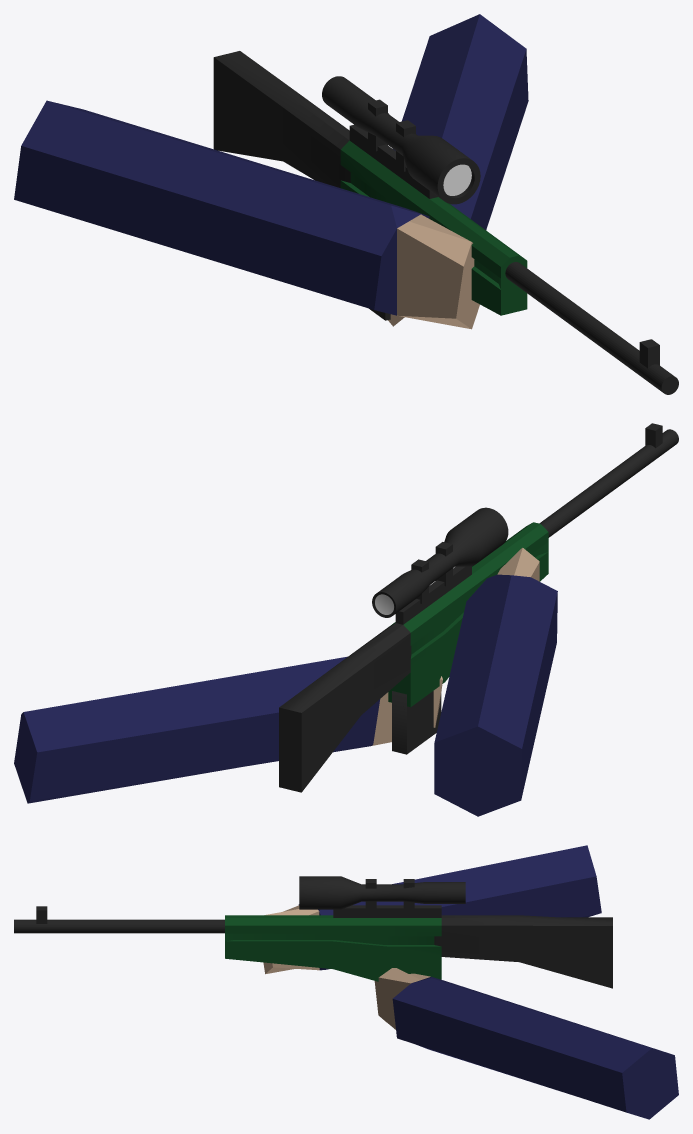
The model's file is 携带AWP.fbx.
3 views of the same model, one above another, from view 1: azimuth 30°, elevation 25°; view 2: azimuth 150°, elevation 25°; view 3: azimuth 270°, elevation 25° (orthographic). The views are drawn at different scales.
Parts seen in each view (by area): view 1: 手臂, AWP, 手臂.001; view 2: 手臂.001, AWP, 手臂, 弹夹; view 3: AWP, 手臂.001, 手臂.
Part boxes in pixels (x1=…): 手臂: x1=14, y1=100, x2=479, y2=329; AWP: x1=213, y1=51, x2=678, y2=394; 手臂.001: x1=388, y1=14, x2=528, y2=326; 手臂.001: x1=14, y1=656, x2=442, y2=803; AWP: x1=279, y1=423, x2=678, y2=792; 手臂: x1=434, y1=548, x2=557, y2=816; 弹夹: x1=392, y1=691, x2=441, y2=754; AWP: x1=14, y1=876, x2=612, y2=988; 手臂.001: x1=374, y1=968, x2=678, y2=1119; 手臂: x1=263, y1=845, x2=601, y2=974.
Size of the model in its own units: 1206 by 467 by 1862.
